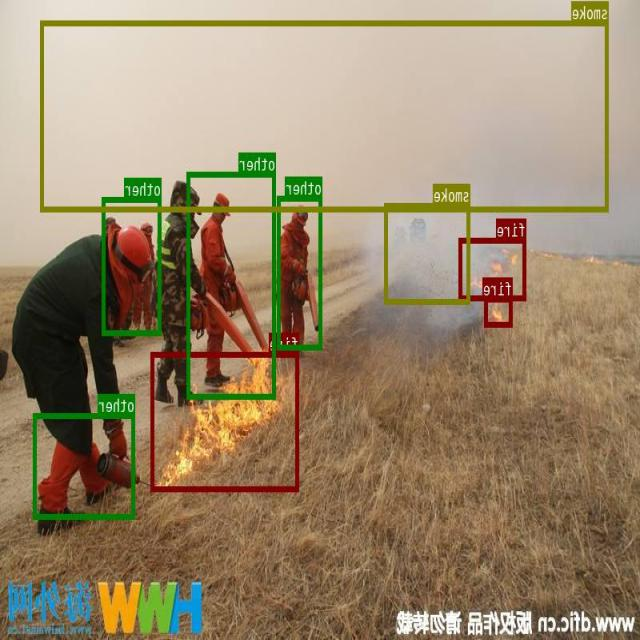fire: (152, 351, 300, 491), (459, 238, 526, 300), (485, 296, 513, 326)
other: (188, 172, 276, 398), (34, 412, 136, 518), (103, 197, 162, 334), (278, 194, 323, 350)
smoke: (41, 20, 609, 212), (385, 202, 471, 303)
